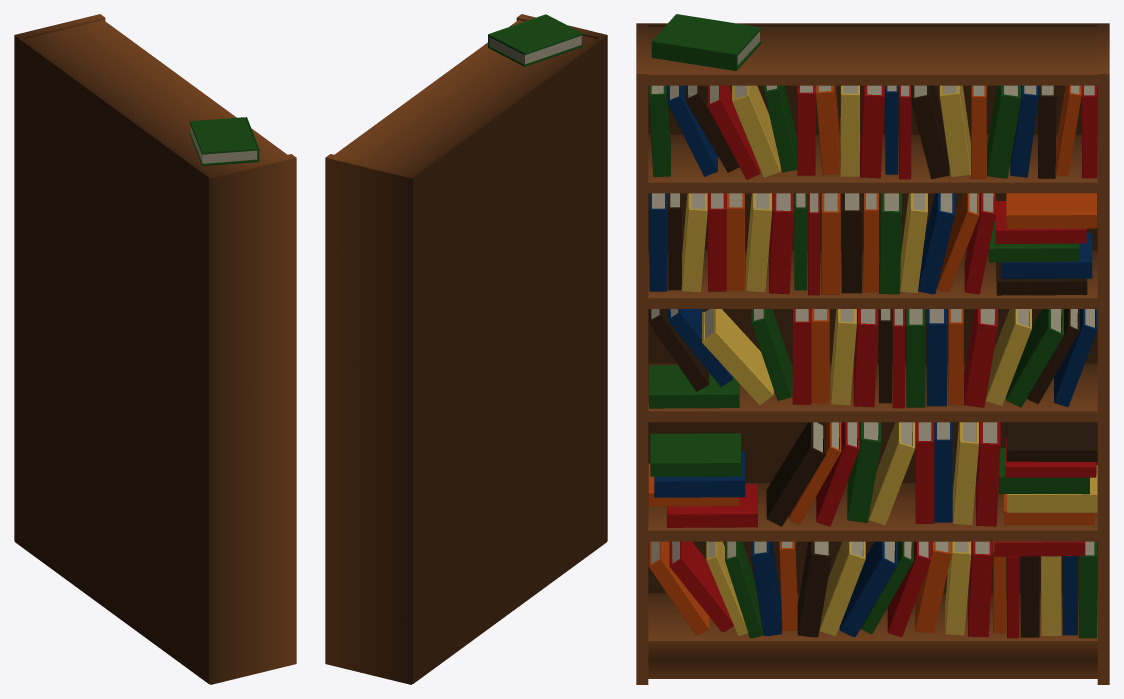
The model's file is Owl Bookshelf 2.fbx.
3 renders of one model, left to right at view 1: azimuth 30°, elevation 25°; view 2: azimuth 150°, elevation 25°; view 3: azimuth 270°, elevation 25°, orthographic. The views are drawn at different scales.
Parts seen in each view (by area): view 1: polySurface151; view 2: polySurface151; view 3: polySurface151.
Boxes of the visible parts, bbox=[...] form: polySurface151: bbox=[14, 14, 296, 684]; polySurface151: bbox=[325, 14, 607, 684]; polySurface151: bbox=[636, 14, 1109, 684].
Size of the model in its own units: 49.68 by 285 by 196.
